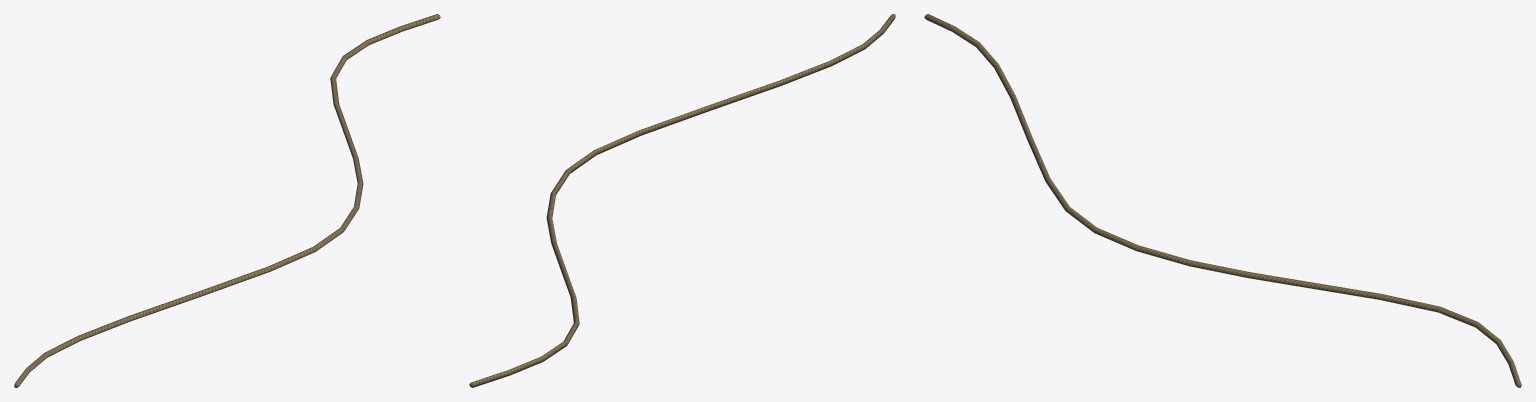
Rendered from SM_rope_ground_02.fbx.
3 views of the same model, side by side, from view 1: azimuth 30°, elevation 25°; view 2: azimuth 210°, elevation 25°; view 3: azimuth 270°, elevation 25° (orthographic). The views are drawn at different scales.
Parts seen in each view (by area): view 1: Object32613; view 2: Object32613; view 3: Object32613.
Boxes of the visible parts, x1=… form: Object32613: x1=14, y1=14, x2=440, y2=387; Object32613: x1=469, y1=14, x2=895, y2=387; Object32613: x1=924, y1=14, x2=1521, y2=387.
Bounding box in the file's own units: 186 × 1.29 × 127.
